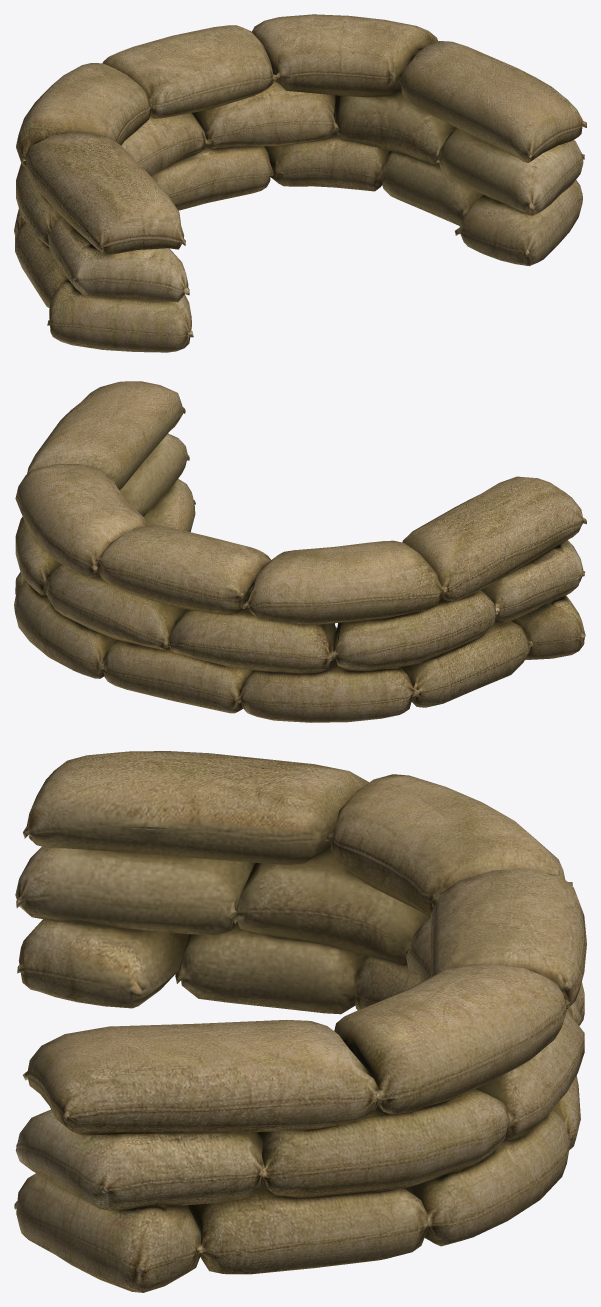
File: generated-1948-10-low-sandbag-position.glb
3 renders of one model, top to bottom at view 1: azimuth 30°, elevation 25°; view 2: azimuth 150°, elevation 25°; view 3: azimuth 270°, elevation 25°, orthographic. The views are drawn at different scales.
Parts seen in each view (by area): view 1: tripo_node_86ba3a3b-7b79-4c9a-bc91-b5e431d5538d; view 2: tripo_node_86ba3a3b-7b79-4c9a-bc91-b5e431d5538d; view 3: tripo_node_86ba3a3b-7b79-4c9a-bc91-b5e431d5538d.
Part boxes in pixels (x1,y1,x2,y2): tripo_node_86ba3a3b-7b79-4c9a-bc91-b5e431d5538d: [14, 14, 586, 352]; tripo_node_86ba3a3b-7b79-4c9a-bc91-b5e431d5538d: [14, 381, 586, 722]; tripo_node_86ba3a3b-7b79-4c9a-bc91-b5e431d5538d: [14, 751, 586, 1292].
Bounding box in the file's own units: 0.9995 × 0.2739 × 0.6421.
1 material, 1 textured.
